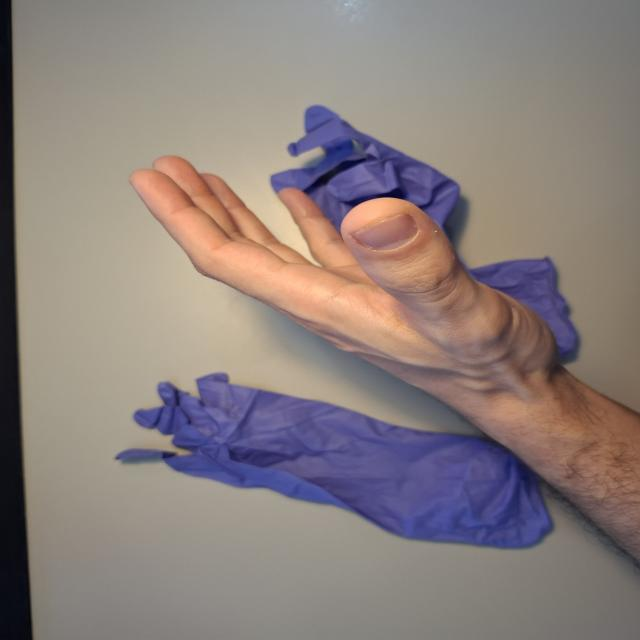glove_off: (122, 154, 574, 402)
